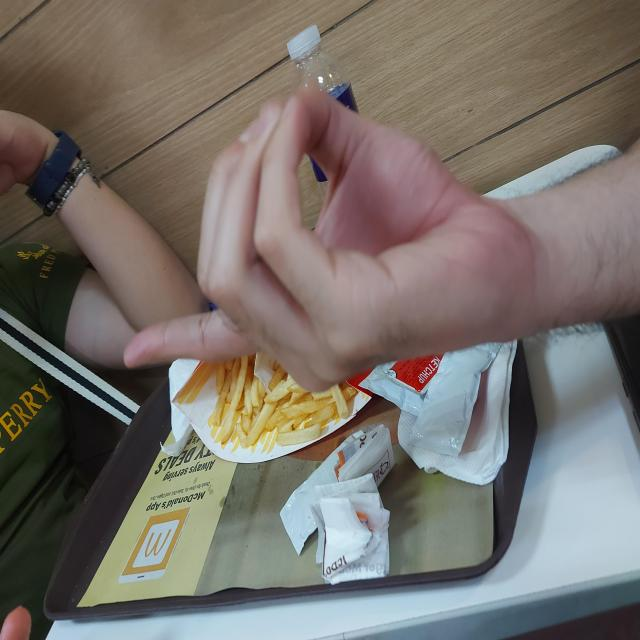D: (244, 119, 546, 536)
